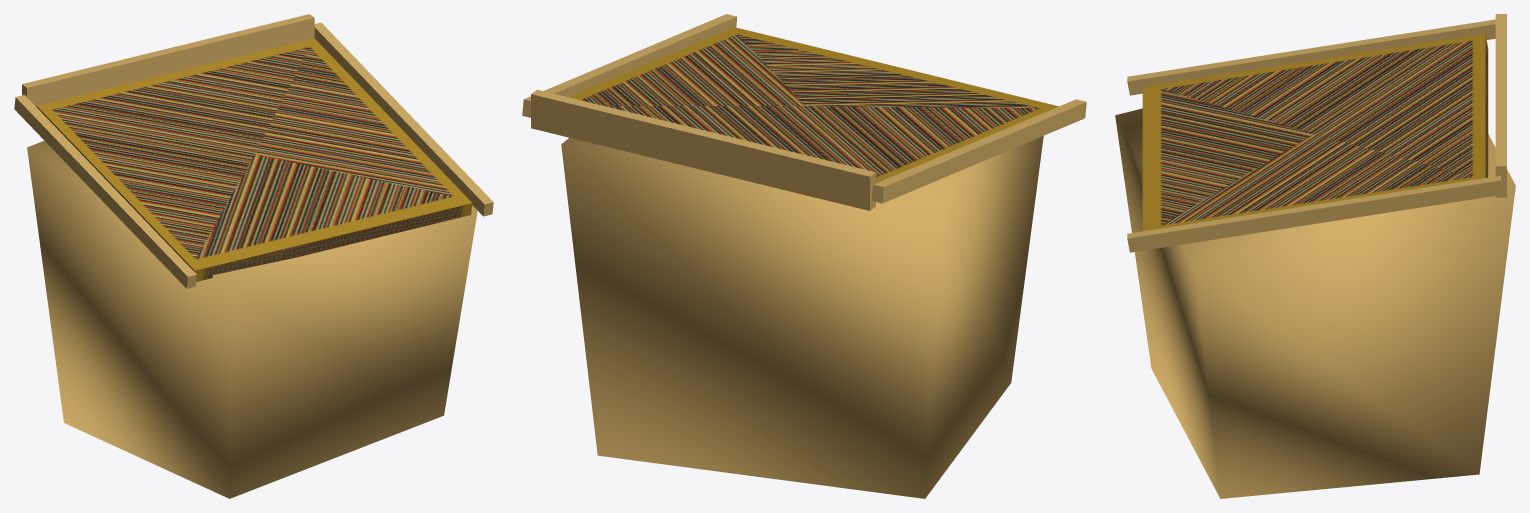
File: N13_side_reference.glb
3 views of the same model, side by side, from view 1: azimuth 30°, elevation 25°; view 2: azimuth 150°, elevation 25°; view 3: azimuth 270°, elevation 25° (orthographic). The views are drawn at different scales.
Visible parts, largest first — view 1: Folded tapered gold body, Angled multicolour square inset, Folded gold side rim (×2), Raised rear gold fold; view 2: Folded tapered gold body, Angled multicolour square inset, Raised rear gold fold, Folded gold side rim (×2); view 3: Folded tapered gold body, Angled multicolour square inset, Folded gold side rim (×2), Raised rear gold fold.
Part boxes in pixels (<box>): Folded tapered gold body: <box>27,140,477,498</box>; Angled multicolour square inset: <box>36,38,472,281</box>; Folded gold side rim (×2): <box>14,22,493,288</box>; Raised rear gold fold: <box>22,14,314,106</box>; Folded tapered gold body: <box>561,136,1043,498</box>; Angled multicolour square inset: <box>569,27,1058,183</box>; Raised rear gold fold: <box>531,89,875,210</box>; Folded gold side rim (×2): <box>522,14,1086,203</box>; Folded tapered gold body: <box>1115,108,1515,498</box>; Angled multicolour square inset: <box>1142,33,1488,231</box>; Folded gold side rim (×2): <box>1127,19,1503,252</box>; Raised rear gold fold: <box>1495,14,1506,197</box>.
Size of the model in its own units: 0.6795 by 0.5785 by 0.634.
Materials: 2 (1 with a texture image).
